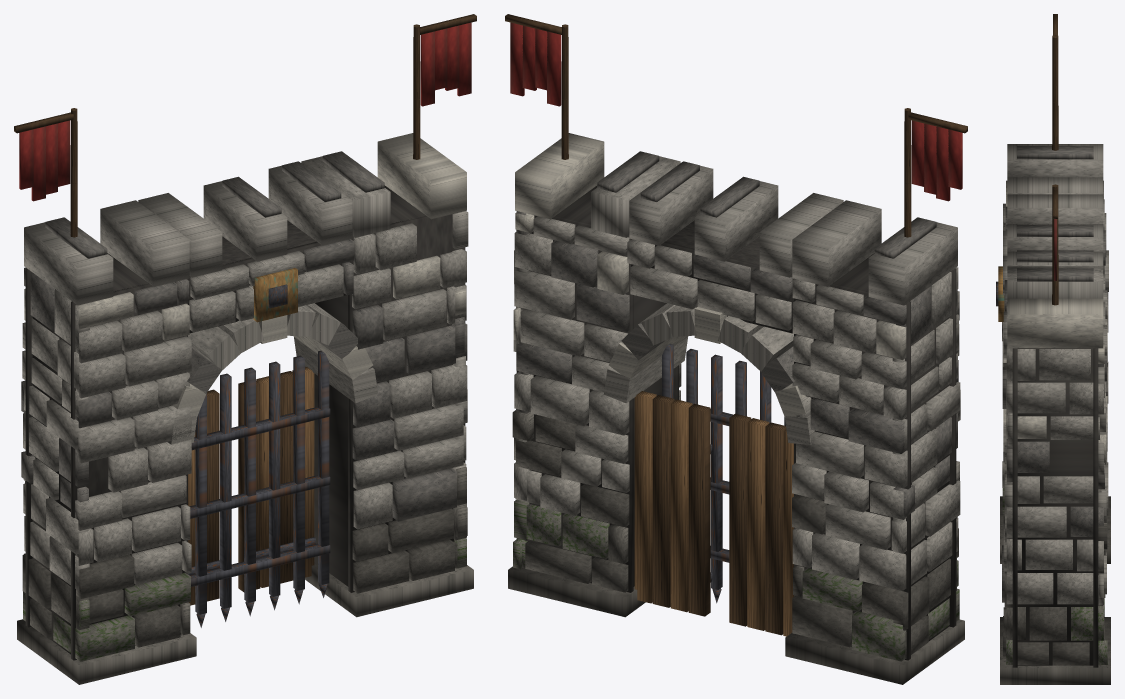
File: fortress_gatehouse.obj
The picture shows the model from 3 angles, left to right: view 1: azimuth 30°, elevation 25°; view 2: azimuth 150°, elevation 25°; view 3: azimuth 270°, elevation 25°; orthographic projection. The views are drawn at different scales.
Visible parts, largest first — view 1: fortress_gatehouse; view 2: fortress_gatehouse; view 3: fortress_gatehouse.
Boxes of the visible parts, <box> form: fortress_gatehouse: <box>14,14,476,684</box>; fortress_gatehouse: <box>505,14,967,684</box>; fortress_gatehouse: <box>996,14,1110,684</box>.
Bounding box in the file's own units: 3.53 × 4 × 0.8531.
